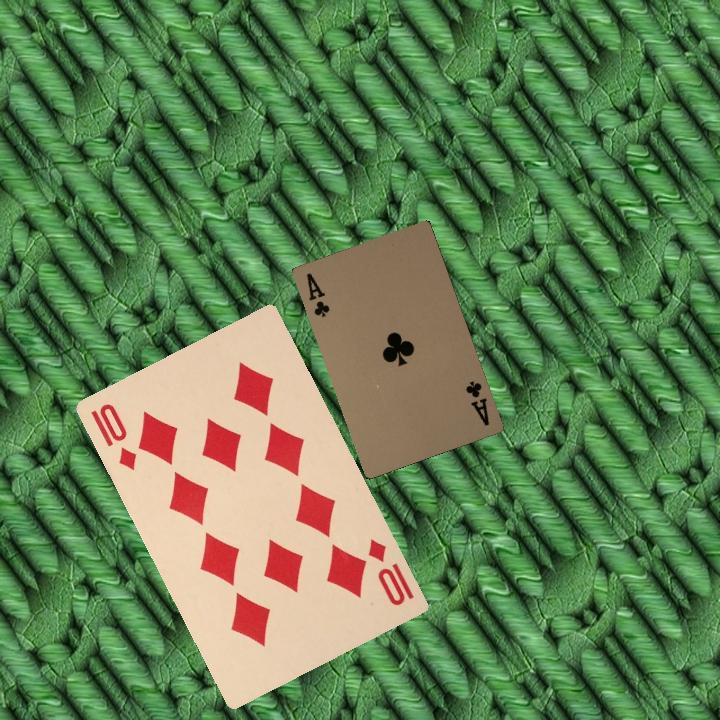10d: (86, 399, 140, 473), (363, 534, 417, 608)
Ac: (461, 377, 492, 428), (302, 269, 332, 319)
